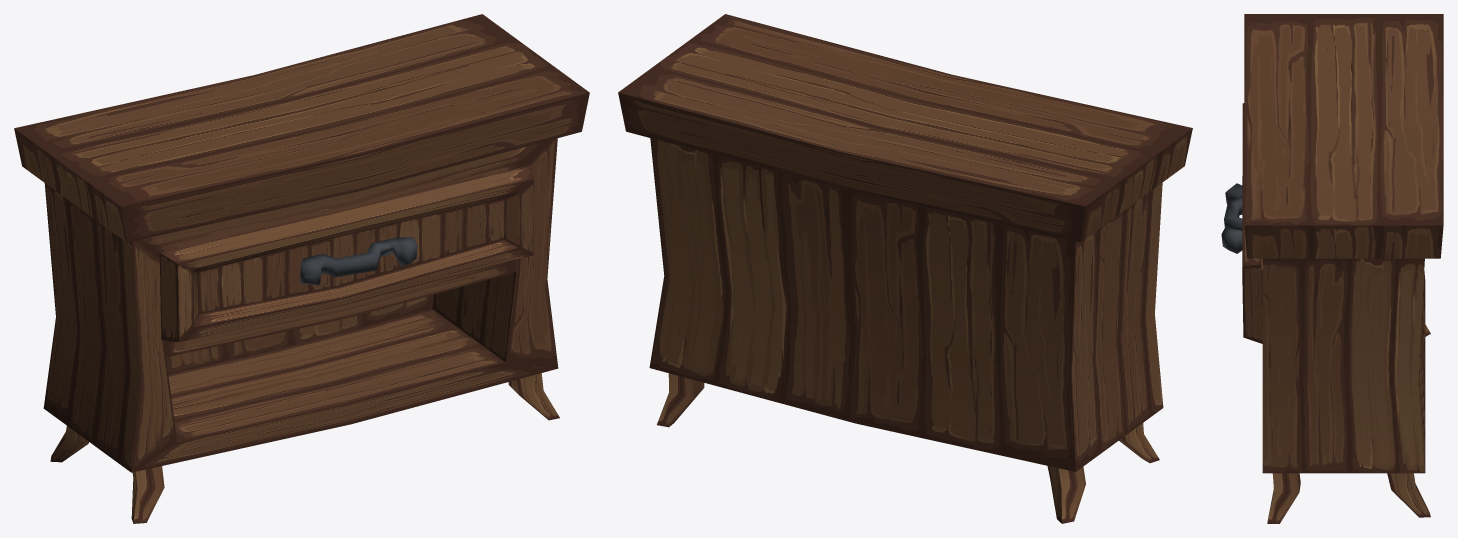
Rendered from SM_PROP_dresser_interior_03.fbx.
3 views of the same model, side by side, from view 1: azimuth 30°, elevation 25°; view 2: azimuth 150°, elevation 25°; view 3: azimuth 270°, elevation 25° (orthographic). The views are drawn at different scales.
Visible parts, largest first — view 1: SM_PROP_dresser_interior_03, SM_PROP_dresser_drawer_interior_03; view 2: SM_PROP_dresser_interior_03; view 3: SM_PROP_dresser_interior_03, SM_PROP_dresser_drawer_interior_03.
Boxes of the visible parts, <box> form: SM_PROP_dresser_interior_03: <box>14,14,589,523</box>; SM_PROP_dresser_drawer_interior_03: <box>159,165,533,341</box>; SM_PROP_dresser_interior_03: <box>618,14,1192,523</box>; SM_PROP_dresser_interior_03: <box>1244,14,1443,523</box>; SM_PROP_dresser_drawer_interior_03: <box>1221,103,1262,343</box>.
Bounding box in the file's own units: 165 × 112 × 73.35.
